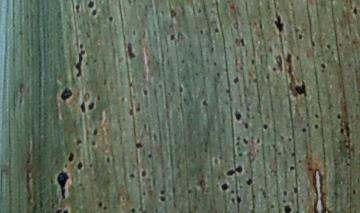tarspot: (74, 49, 85, 77), (58, 171, 68, 198), (295, 79, 308, 97), (60, 87, 73, 102), (274, 14, 284, 32), (127, 41, 136, 59), (225, 168, 235, 177), (234, 110, 242, 121), (68, 152, 75, 164), (76, 161, 84, 170), (239, 38, 247, 47), (271, 141, 278, 151), (80, 102, 86, 113), (236, 195, 242, 206), (87, 1, 95, 9), (88, 102, 96, 110), (284, 205, 292, 213), (134, 142, 143, 149), (201, 98, 208, 107), (310, 39, 317, 48), (352, 7, 359, 16), (233, 74, 239, 84), (128, 171, 135, 179), (221, 183, 229, 190), (236, 165, 243, 173), (246, 178, 253, 186), (169, 33, 176, 41), (288, 164, 296, 171), (177, 85, 184, 93), (75, 4, 81, 13), (141, 169, 147, 178), (243, 121, 249, 130), (142, 89, 149, 96), (135, 106, 142, 113), (319, 62, 326, 69), (249, 58, 256, 65), (197, 28, 204, 35), (170, 10, 177, 17), (95, 94, 102, 101), (91, 9, 97, 17), (75, 138, 83, 144), (92, 128, 98, 136), (214, 26, 220, 34), (301, 125, 307, 133), (242, 136, 248, 144), (293, 185, 298, 194), (91, 140, 97, 147), (147, 152, 153, 159), (160, 196, 166, 203), (262, 123, 268, 130), (339, 127, 345, 134), (336, 113, 342, 120), (297, 33, 303, 40), (290, 151, 296, 158), (236, 151, 243, 157), (295, 54, 301, 61), (129, 108, 134, 116), (131, 205, 136, 213), (108, 16, 114, 22), (282, 189, 288, 195), (235, 141, 241, 147), (212, 61, 218, 67), (197, 8, 203, 14), (337, 41, 343, 47), (62, 208, 69, 213), (106, 156, 111, 163), (314, 122, 319, 129), (272, 65, 277, 72), (256, 137, 261, 144), (326, 42, 331, 49), (270, 202, 275, 209), (98, 200, 102, 208), (79, 43, 84, 49), (56, 207, 61, 213), (129, 82, 134, 88), (160, 190, 165, 196), (314, 112, 319, 118), (236, 135, 241, 141), (187, 189, 193, 194), (230, 189, 235, 194), (103, 205, 107, 211), (217, 72, 221, 78), (231, 198, 236, 202), (352, 189, 356, 194), (288, 137, 292, 142)
